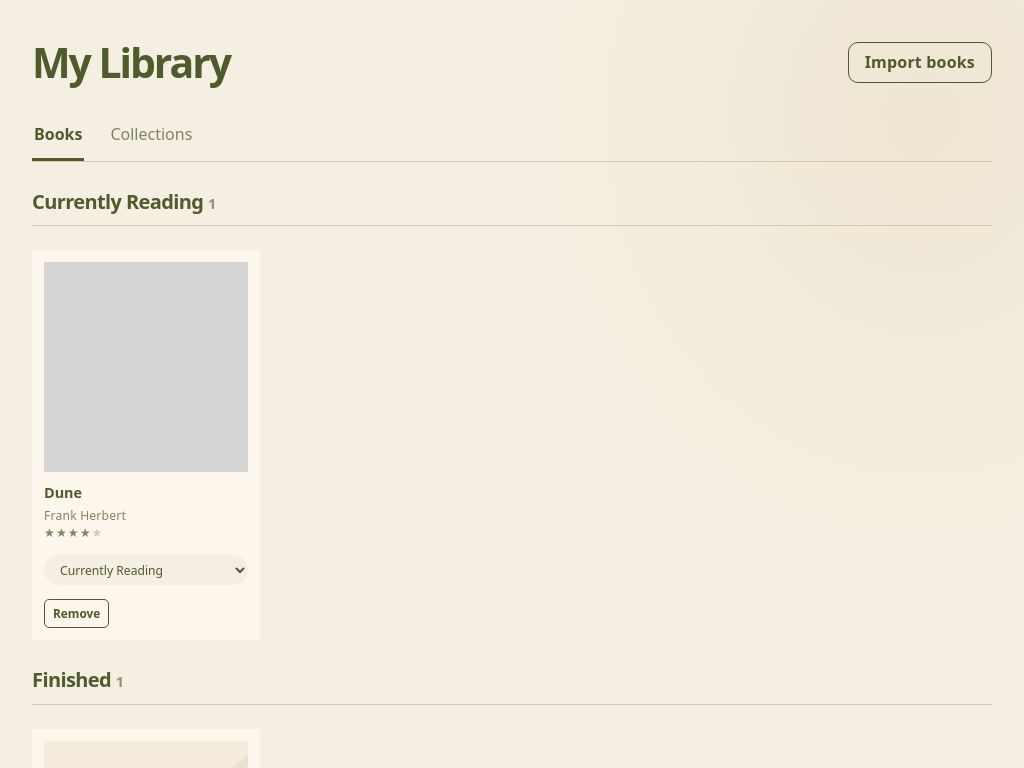
Test: CollectionDetailsPage › opens collection contents from the My Library collection link
Click the tab "Collections".
click(151, 136)  # box [108,111,194,161]
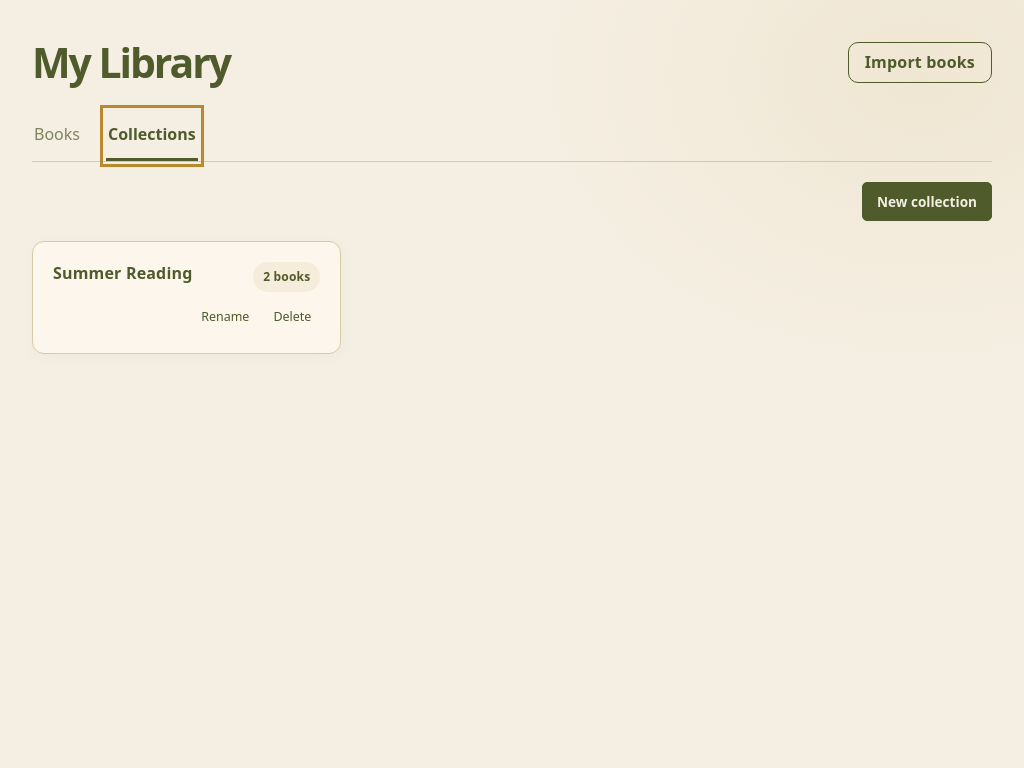
Click the link "Summer Reading".
click(123, 274)  # box [53,262,192,284]
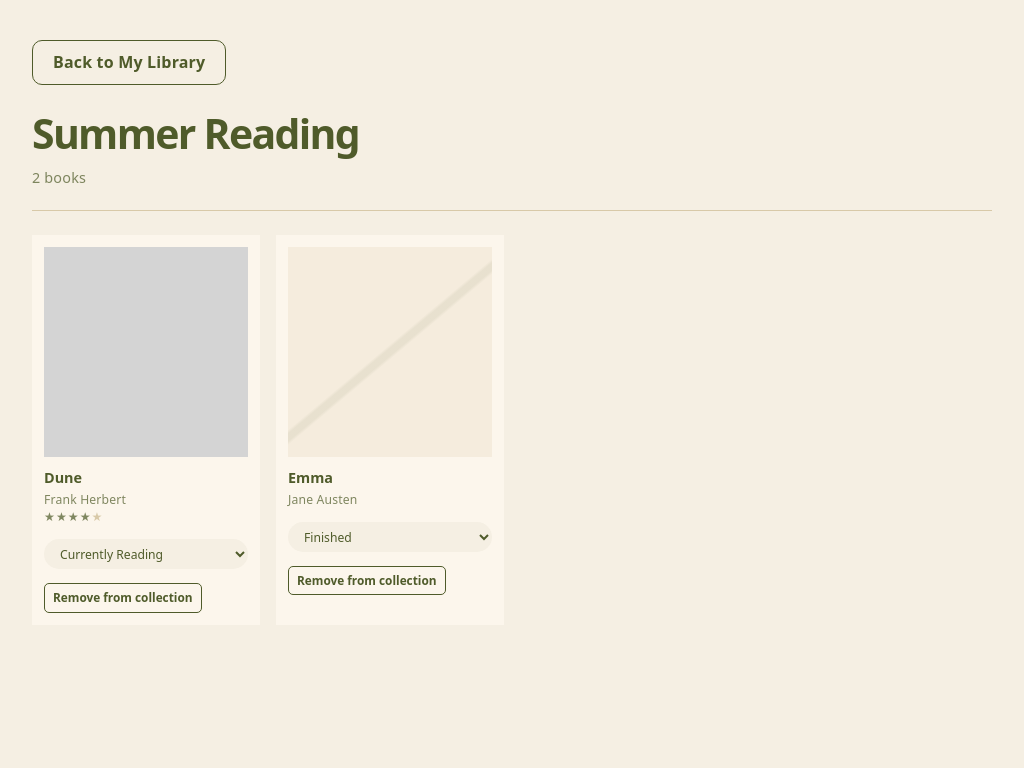
Now the heading "Summer Reading" is shown, box [32,105,359,161]
Now the list named "Collection books" is shown, box [32,234,504,624]
Now the button with aria-label "Remove Dune from collection" is enabled, box [44,583,202,612]
